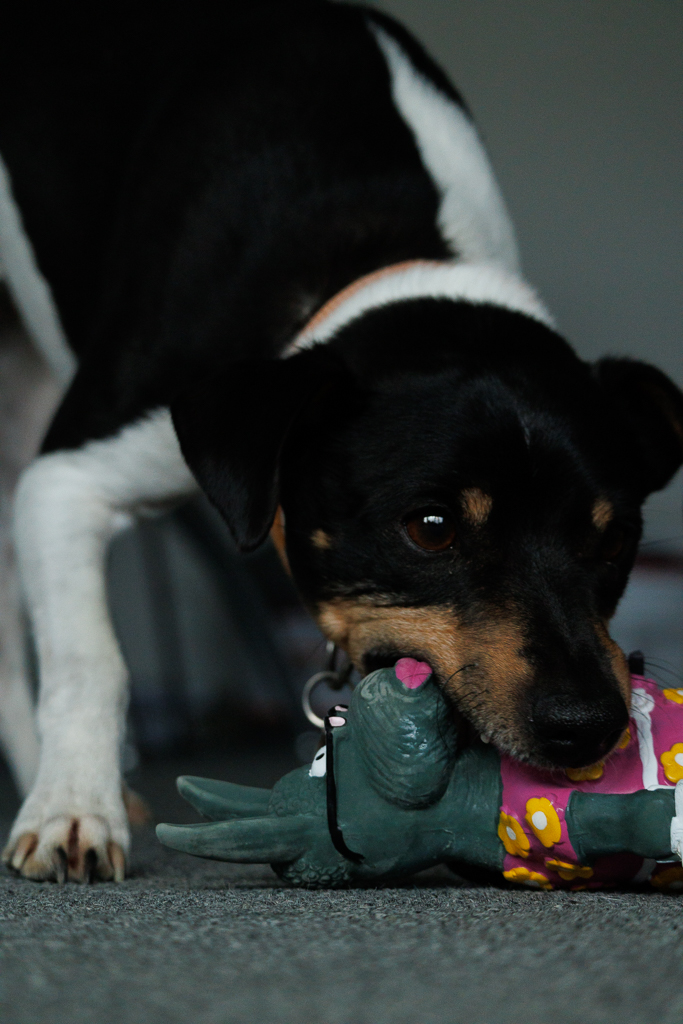Dog: (0, 0, 683, 893)
Humanoid: (145, 627, 683, 907)
